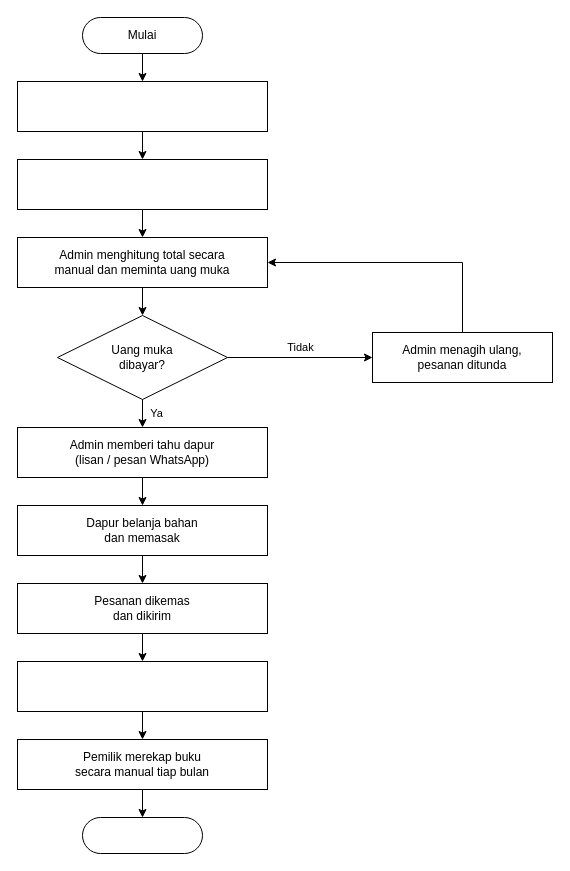
This 570x871 diagram has some shape labels left out. Each missing label, with the centre of its shape:
"Admin mencatat pesanan di buku pesanan" goes at pixel 142 184.
"Pelanggan memesan lewat WhatsApp / telepon" goes at pixel 142 106.
"Pelunasan dicatat di buku kas" goes at pixel 142 686.
"Selesai" goes at pixel 142 835.
